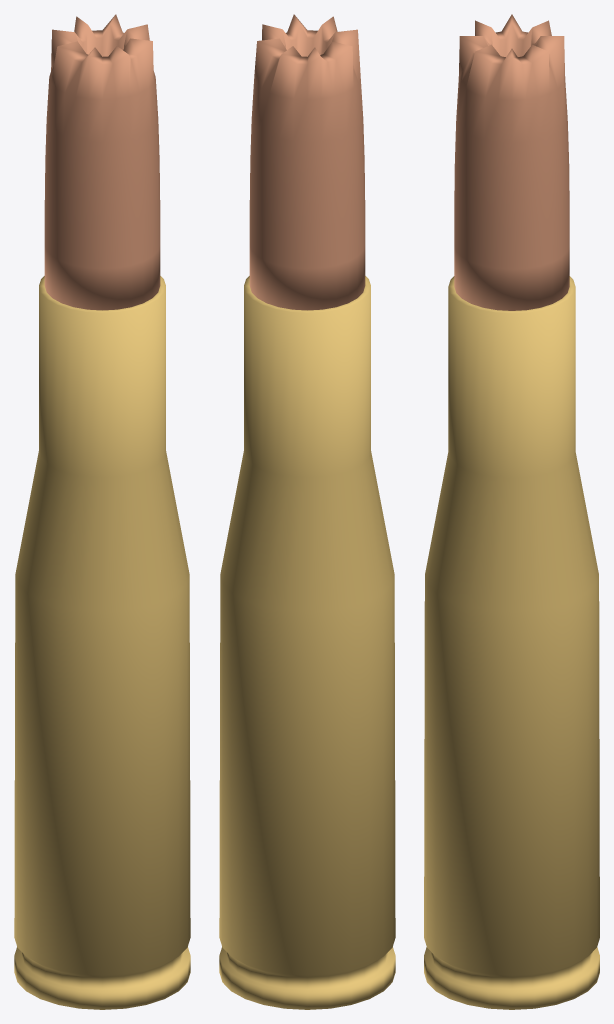
3 renders of one model, left to right at view 1: azimuth 30°, elevation 25°; view 2: azimuth 150°, elevation 25°; view 3: azimuth 270°, elevation 25°, orthographic.
Visible parts, largest first — view 1: vaina, bala_flor; view 2: vaina, bala_flor; view 3: vaina, bala_flor.
Boxes of the visible parts, x1,y1,x2,y2 form: vaina: (14, 276, 190, 1009); bala_flor: (44, 14, 160, 310); vaina: (219, 276, 395, 1009); bala_flor: (249, 14, 365, 310); vaina: (424, 276, 599, 1009); bala_flor: (454, 14, 569, 310).
Bounding box in the file's own units: 0.0119 × 0.0699 × 0.0119.
